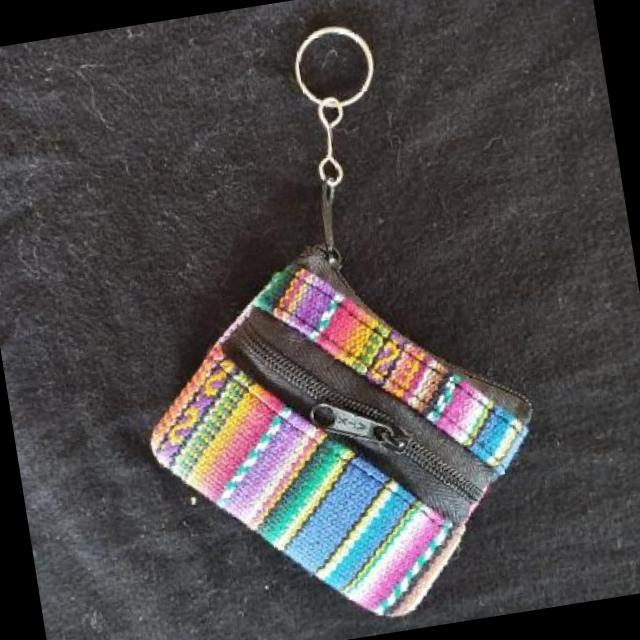Llavero: (122, 216, 563, 640)
